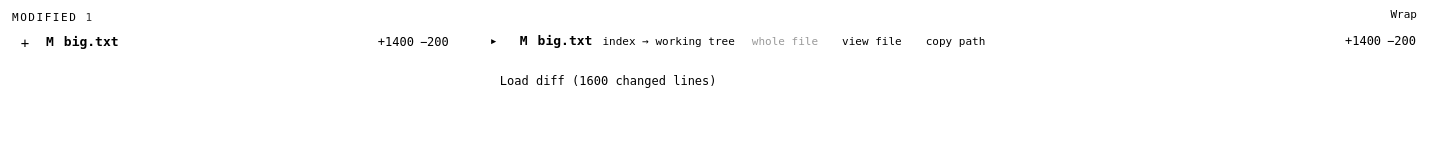
Test: stacked diffs › a huge file starts collapsed behind "Load diff"; the click mounts its body
The width and height of the screenshot is (1434, 160).
Click the button with test id "load-diff" showing "Load diff (1600 changed lines)": (608, 82) x1=490 y1=69 x2=727 y2=94
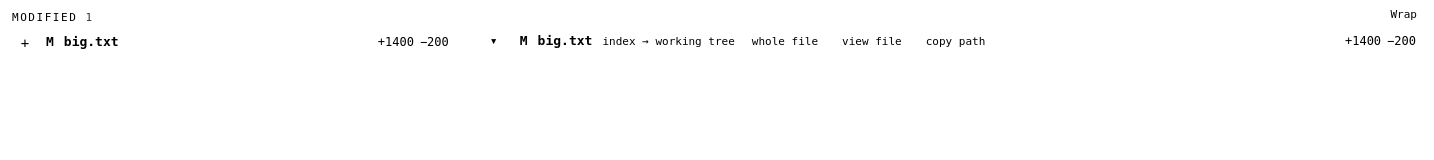
Result: the button with class "collapse-btn" is expanded at x1=490 y1=32 x2=510 y2=51
